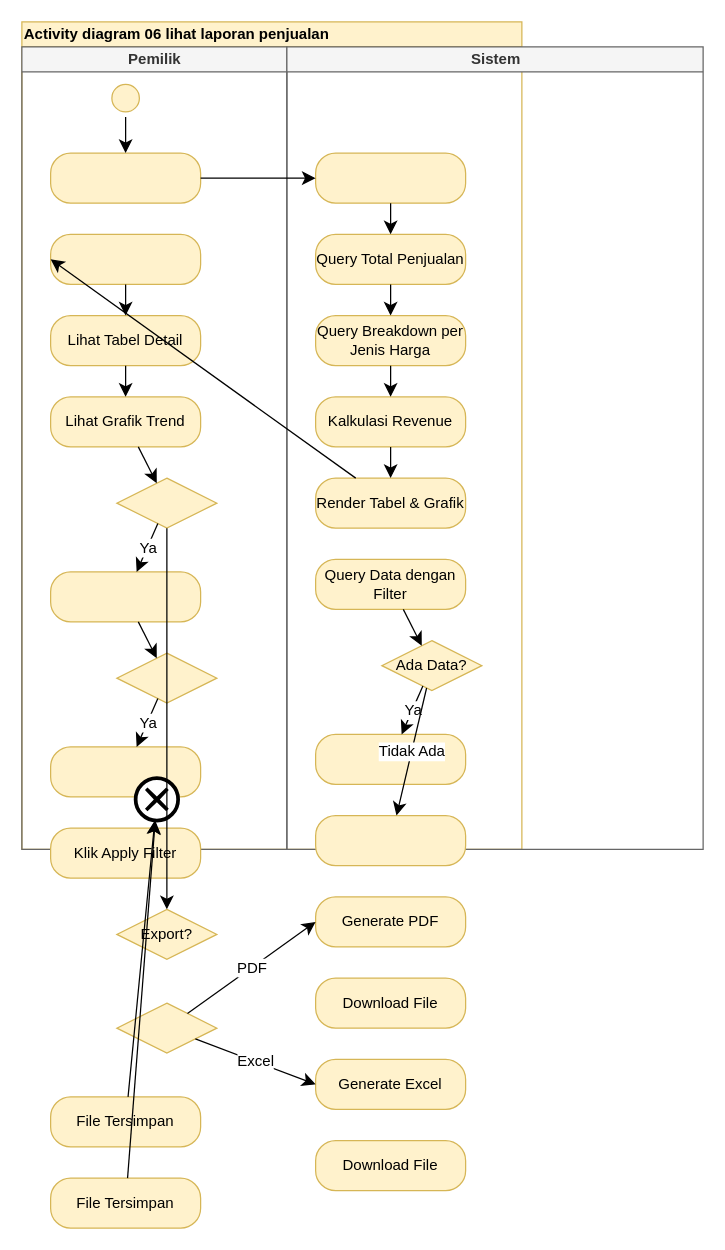
This 725x1250 diagram has some shape labels left out. The shapes that lost their labels are listed below. From the top down, each one's centre as x and y in pixels, then its label:
the point at 125,177: Buka Laporan Penjualan
the point at 390,177: Load Data Default (Bulan Ini)
the point at 125,258: Lihat Summary Penjualan
the point at 166,502: Ubah Filter?
the point at 125,596: Pilih Periode Filter
the point at 166,677: Pilih Kandang?
the point at 125,771: Pilih Kandang Tertentu
the point at 390,758: Render Laporan Baru
the point at 390,840: Pesan "Belum Ada Data"
the point at 166,1027: Format?
